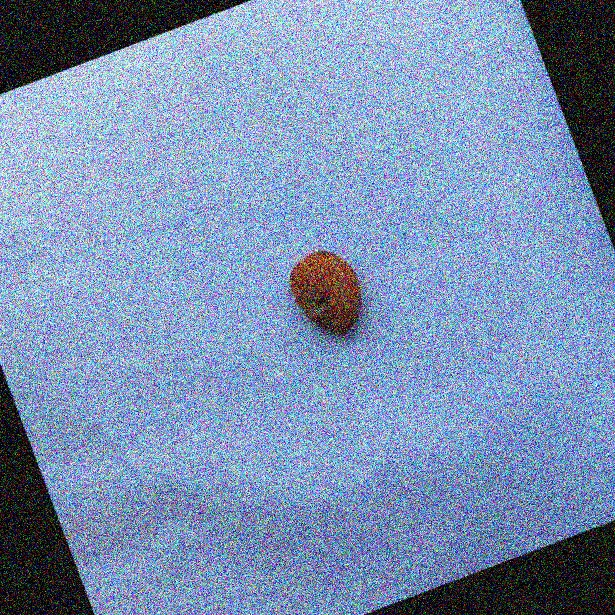grade3: (276, 237, 377, 351)
